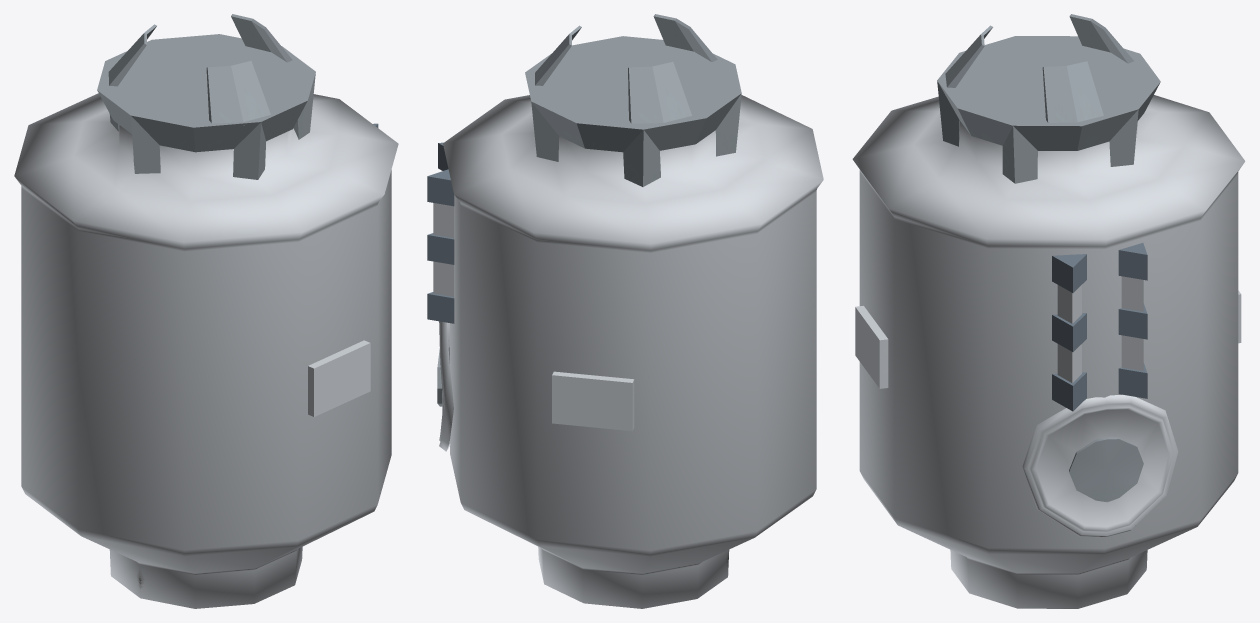
File: ShiYanCang.FBX
3 views of the same model, side by side, from view 1: azimuth 30°, elevation 25°; view 2: azimuth 150°, elevation 25°; view 3: azimuth 270°, elevation 25° (orthographic).
Visible parts, largest first — view 1: ShiYanCang; view 2: ShiYanCang; view 3: ShiYanCang.
Part boxes in pixels (<box>): ShiYanCang: <box>14,14,398,608</box>; ShiYanCang: <box>427,14,823,608</box>; ShiYanCang: <box>852,14,1245,608</box>.
Size of the model in its own units: 69.25 by 101 by 67.93.
